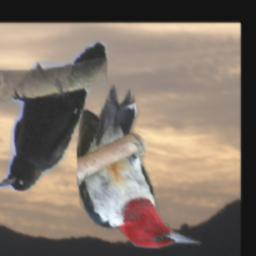Crow: (0, 42, 106, 191)
Woodpecker: (76, 86, 200, 249)
